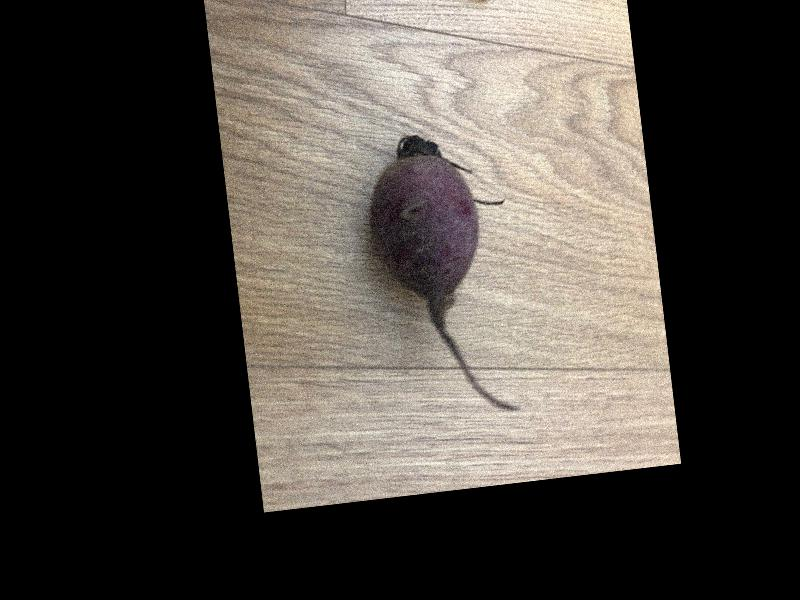Beet: (363, 127, 527, 425)
